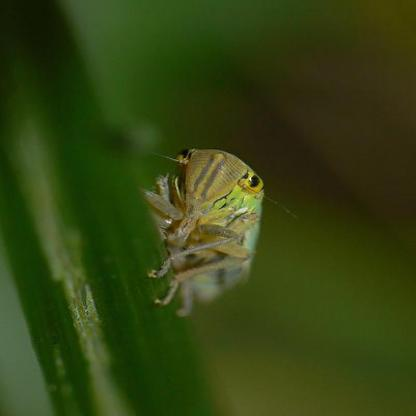Green-Leafhopper: (141, 140, 280, 324)
